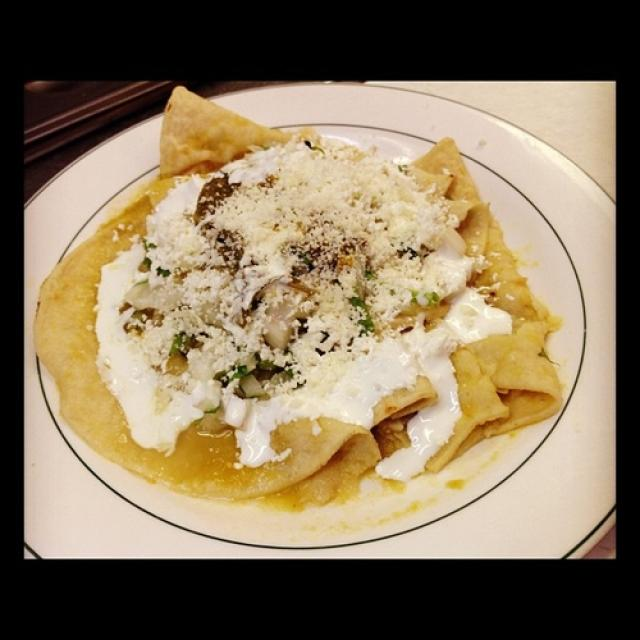面包点心: (55, 92, 570, 528)
